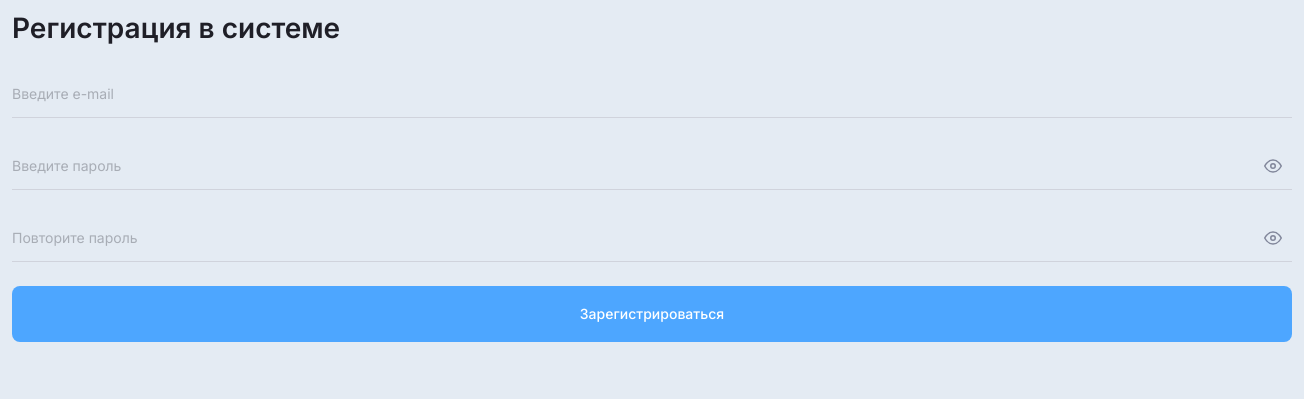
SignUpForm › shows password strength error when password is too short
Type "user@test.com" into the field with placeholder "Введите e-mail".
click(652, 94); type("user@test.com")  # box [12,70,1292,118]
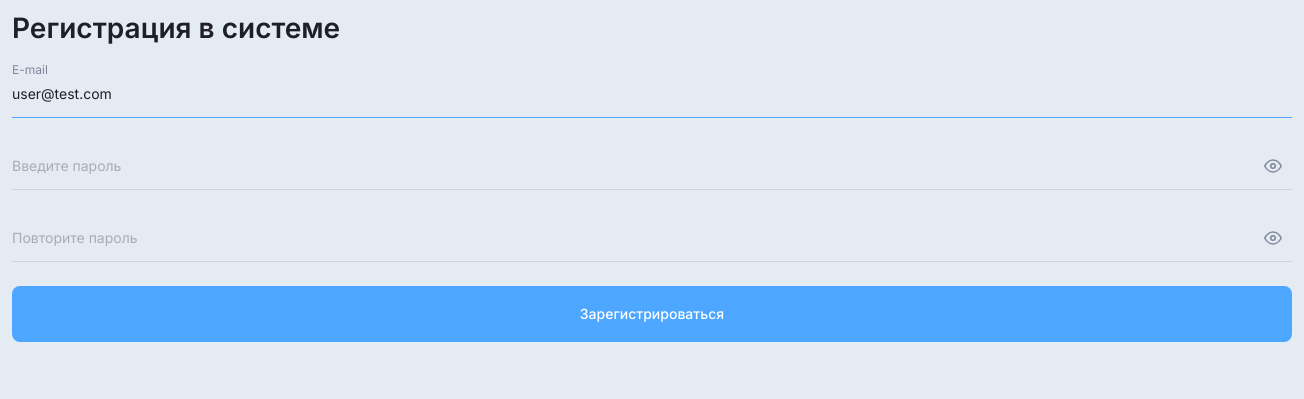
Type "short" into the password field with placeholder "Введите пароль".
click(652, 166); type("short")  # box [12,142,1292,190]
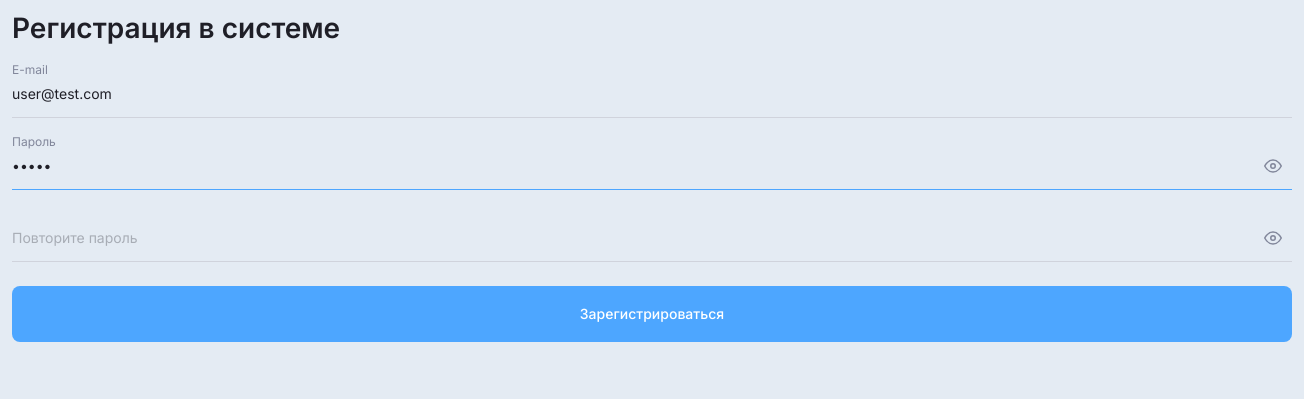
Click the button "Зарегистрироваться".
click(652, 314)  # box [12,286,1292,342]
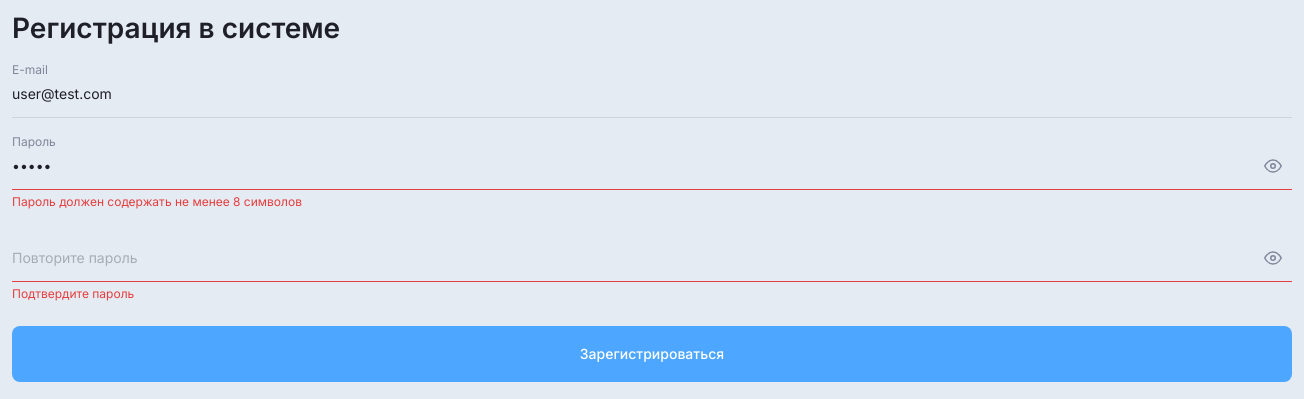
Expected: the text "Пароль должен содержать не менее 8 символов" is shown, [12,194,302,209]
